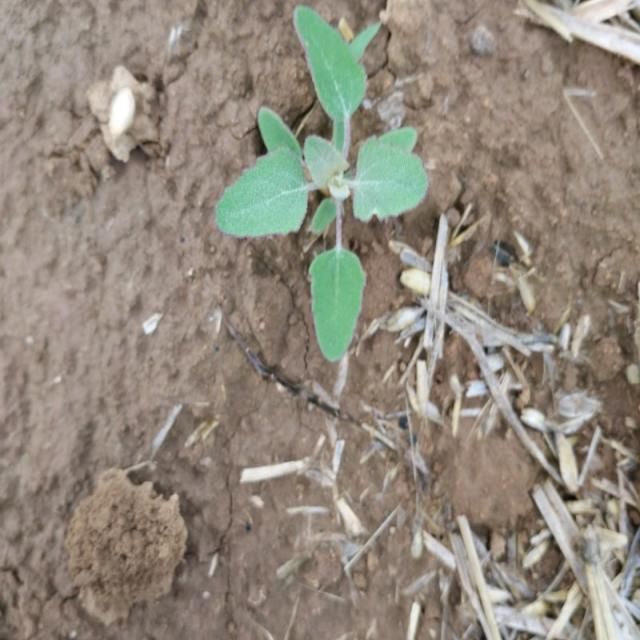goosefoots: (229, 20, 430, 358)
